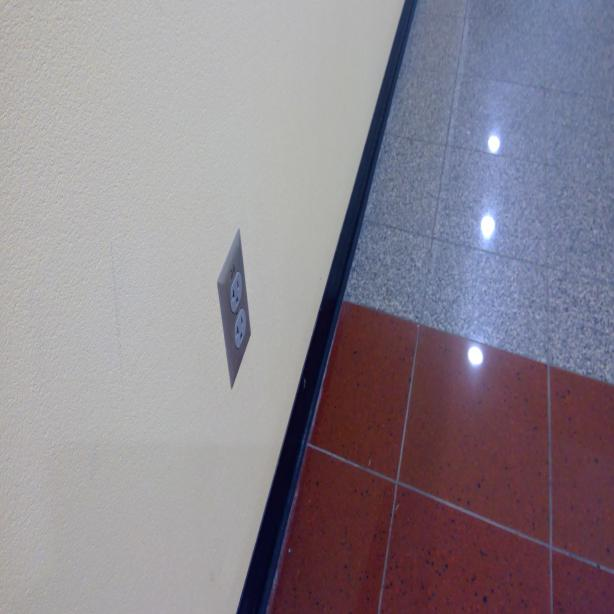typeb: (228, 276, 244, 306), (235, 312, 246, 350)
